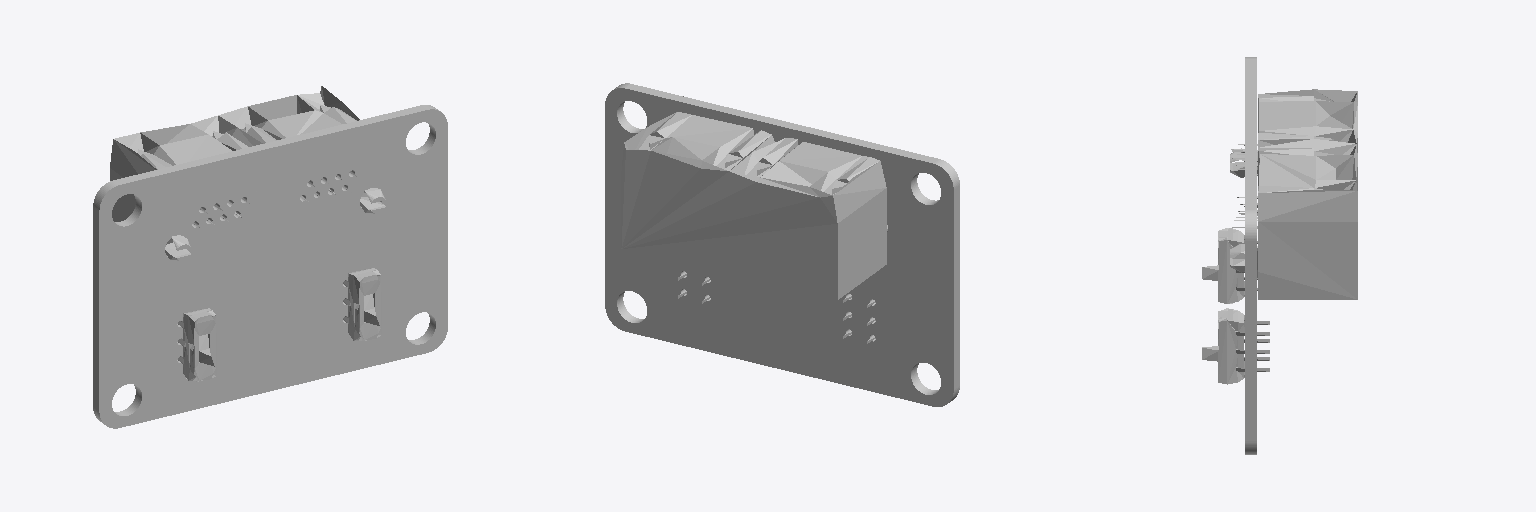
The model's file is compswitch.obj.
The picture shows the model from 3 angles: view 1: azimuth 30°, elevation 25°; view 2: azimuth 150°, elevation 25°; view 3: azimuth 270°, elevation 25°; orthographic projection.
Size of the model in its own units: 50.97 by 33.97 by 19.79.